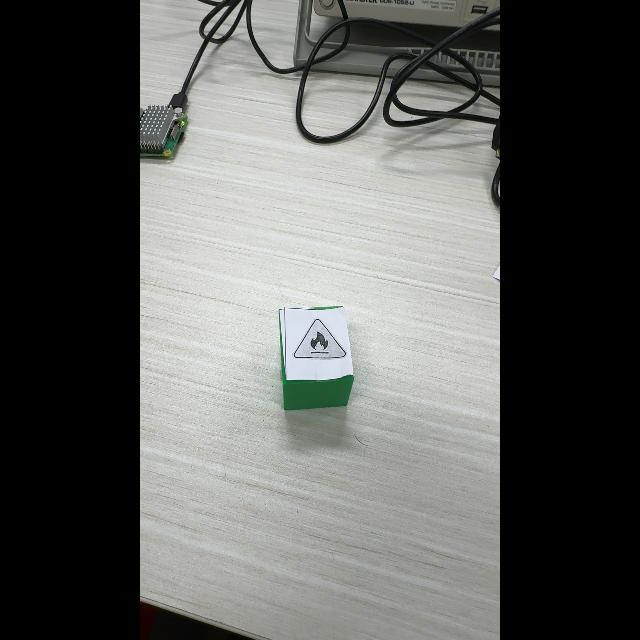Fire: (294, 319, 346, 361)
